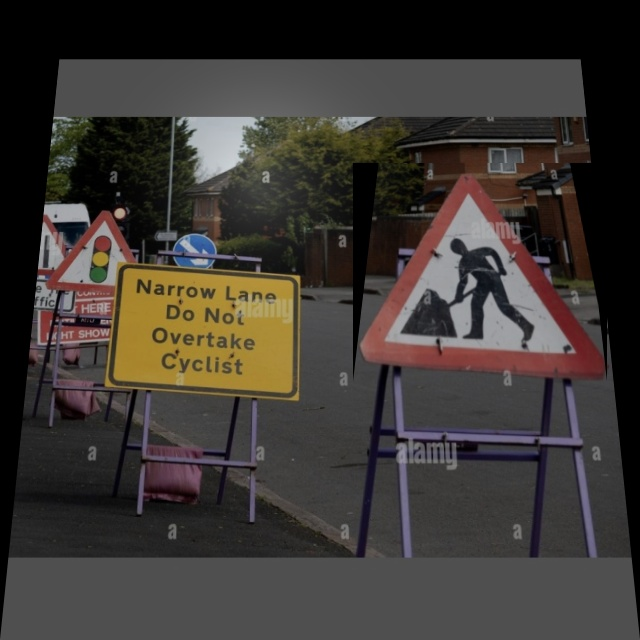Men_at_Work: (353, 163, 607, 382)
